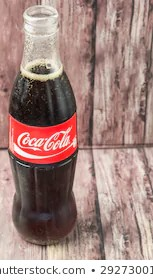coke-glass-bottle: (7, 7, 84, 242)
